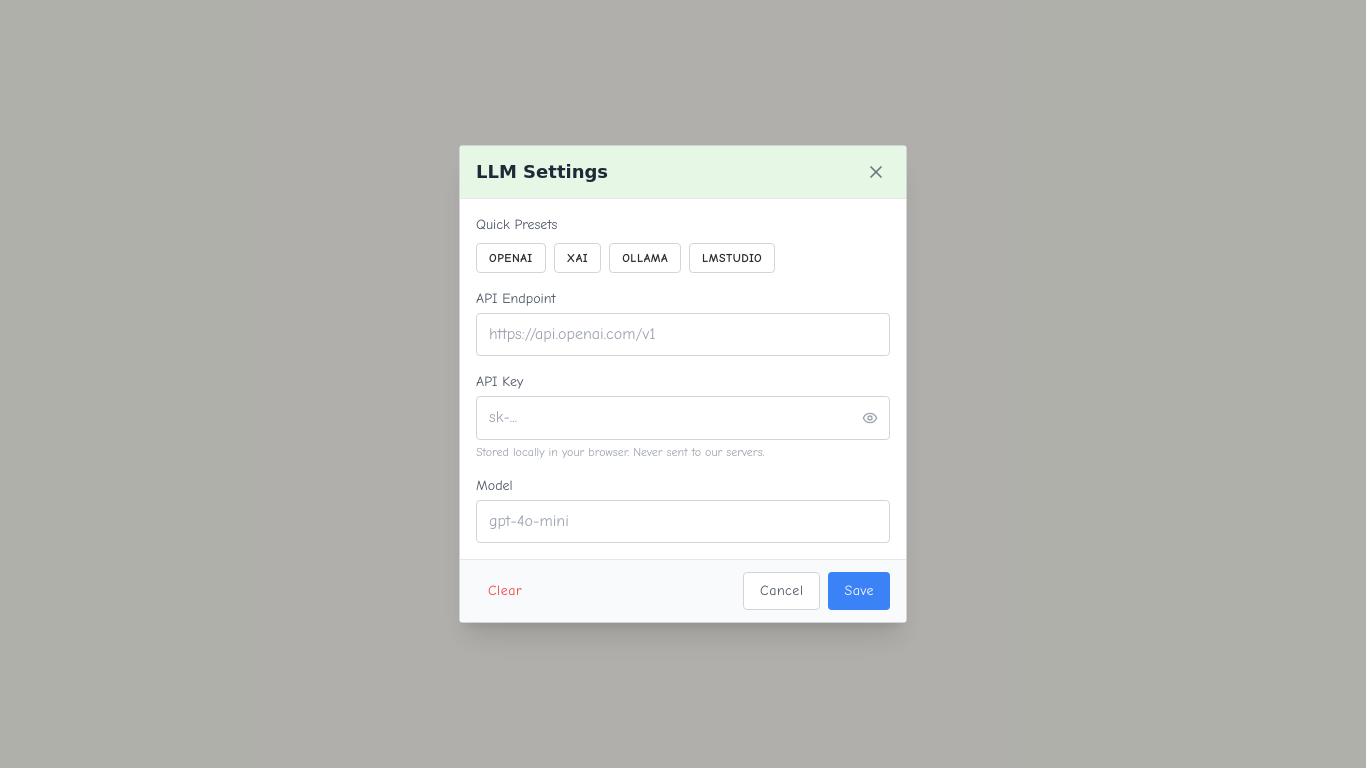
Test: LLMSettingsPanel › shows validation error for empty fields
The width and height of the screenshot is (1366, 768).
# Find save button within panel
Click the button "Save" at {"x": 859, "y": 591}, box [828,572,890,610]
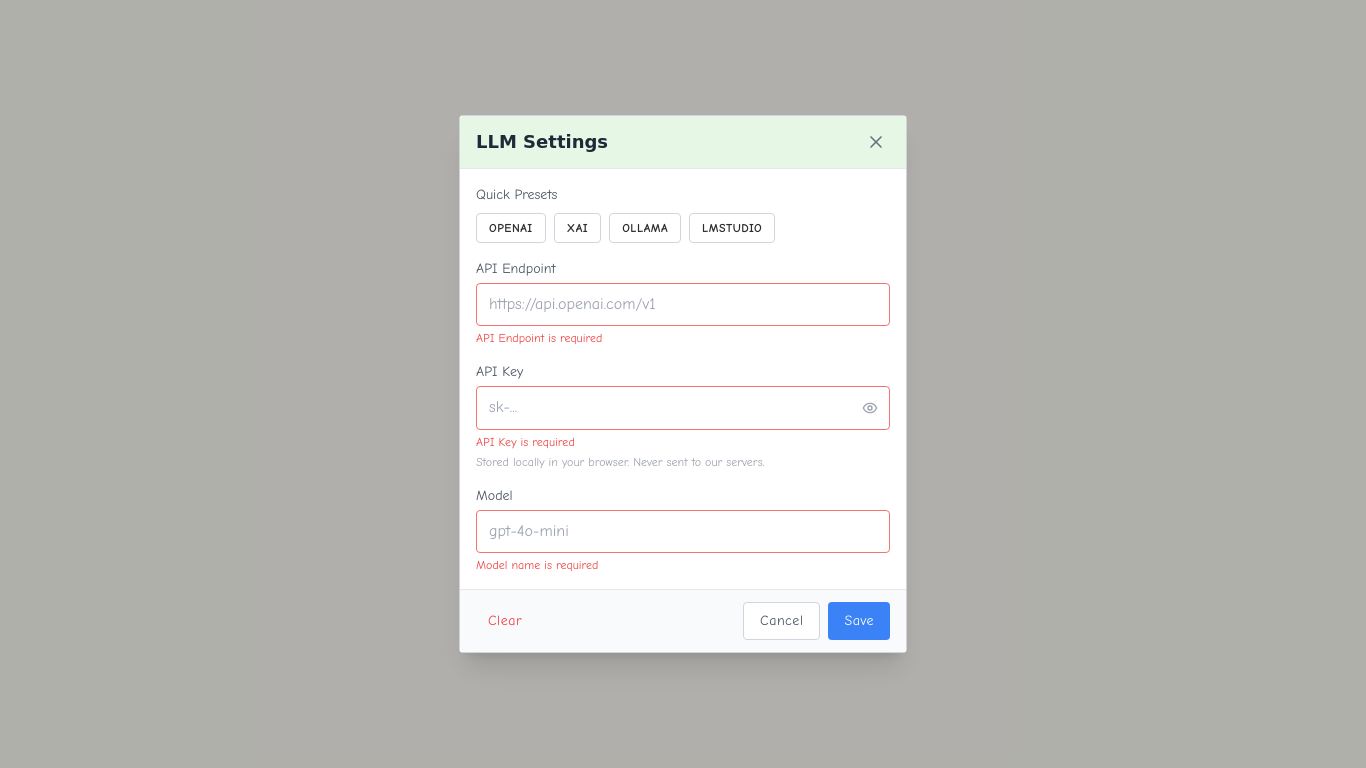
Check: the text "API Endpoint is required" is shown, box [476,331,602,345]
